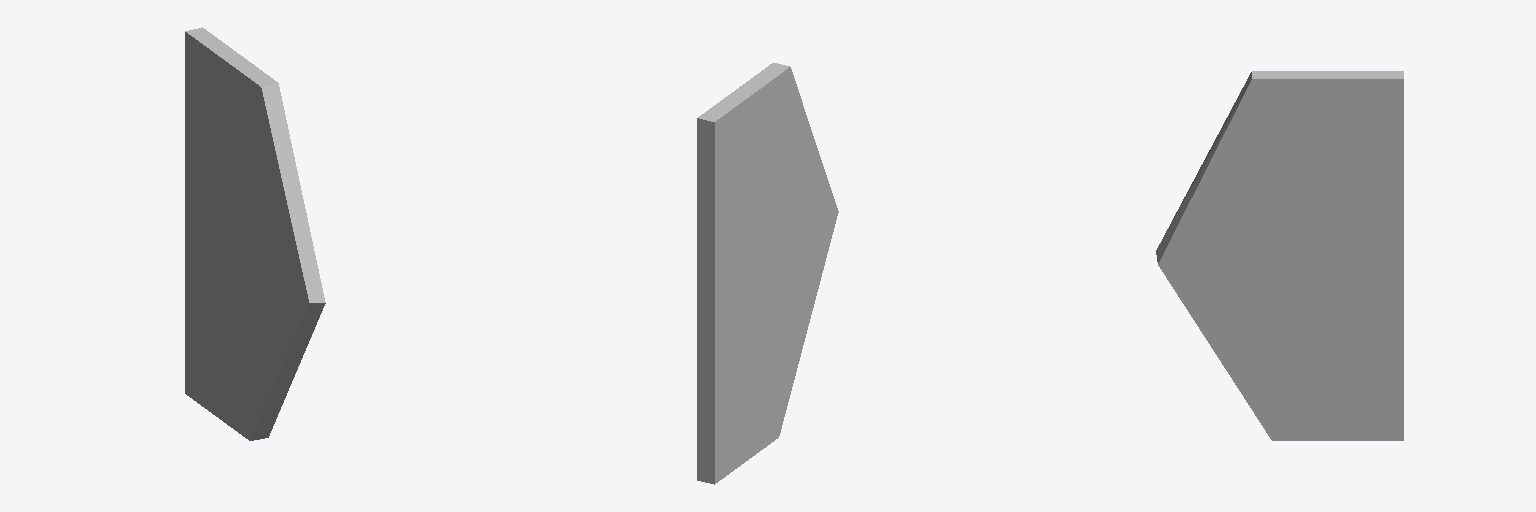
Rendered from doorright.obj.
3 views of the same model, side by side, from view 1: azimuth 30°, elevation 25°; view 2: azimuth 150°, elevation 25°; view 3: azimuth 270°, elevation 25° (orthographic).
Parts seen in each view (by area): view 1: Cube.003; view 2: Cube.003; view 3: Cube.003.
Part boxes in pixels (bbox=[...]): Cube.003: bbox=[185, 27, 325, 440]; Cube.003: bbox=[697, 63, 838, 484]; Cube.003: bbox=[1156, 71, 1403, 440].
Size of the model in its own units: 0.5387 by 10.77 by 6.68.